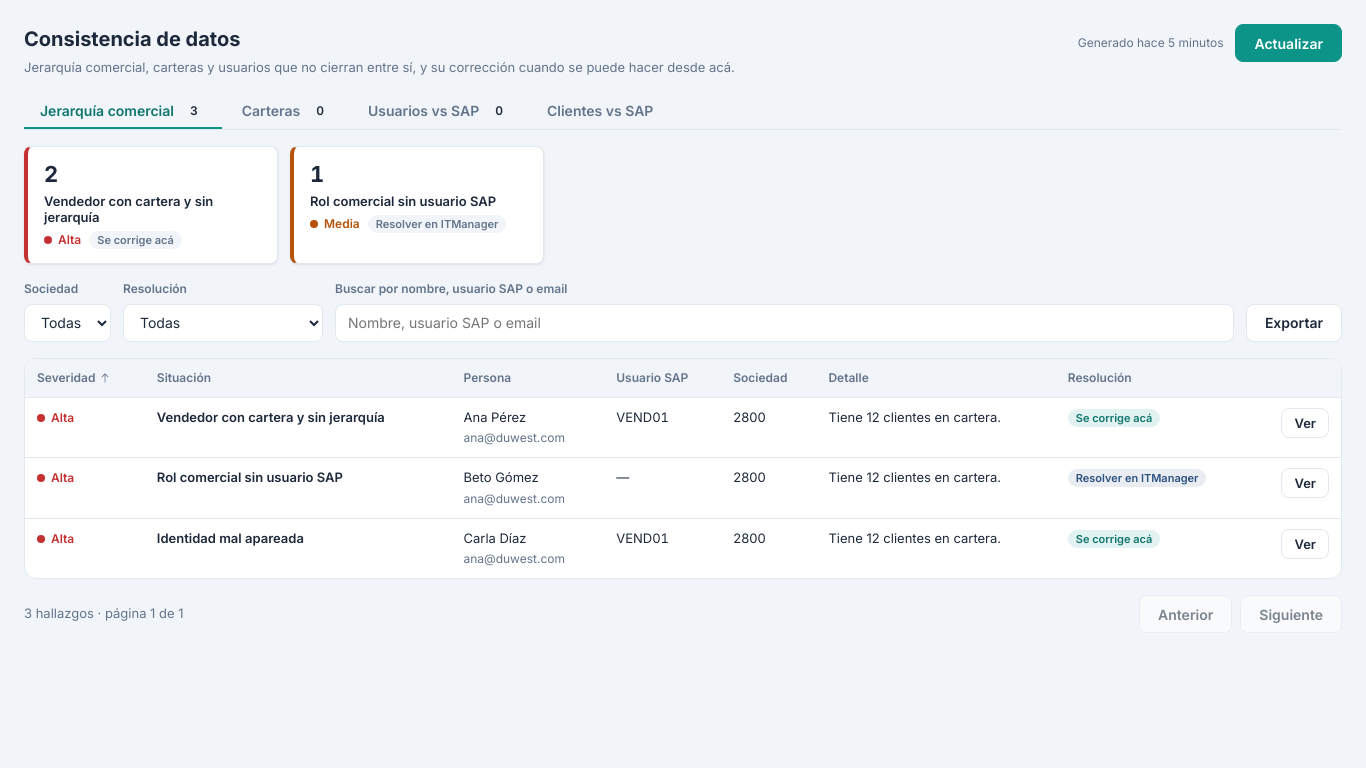
Test: ConsistencyPanel › clientes vs SAP no disponible muestra un aviso neutro
Expected: the text "Ana Pérez" is shown, [464,408,526,424]
Step 1. Click the tab "Clientes vs SAP" → (600, 111), box [531,94,669,128]
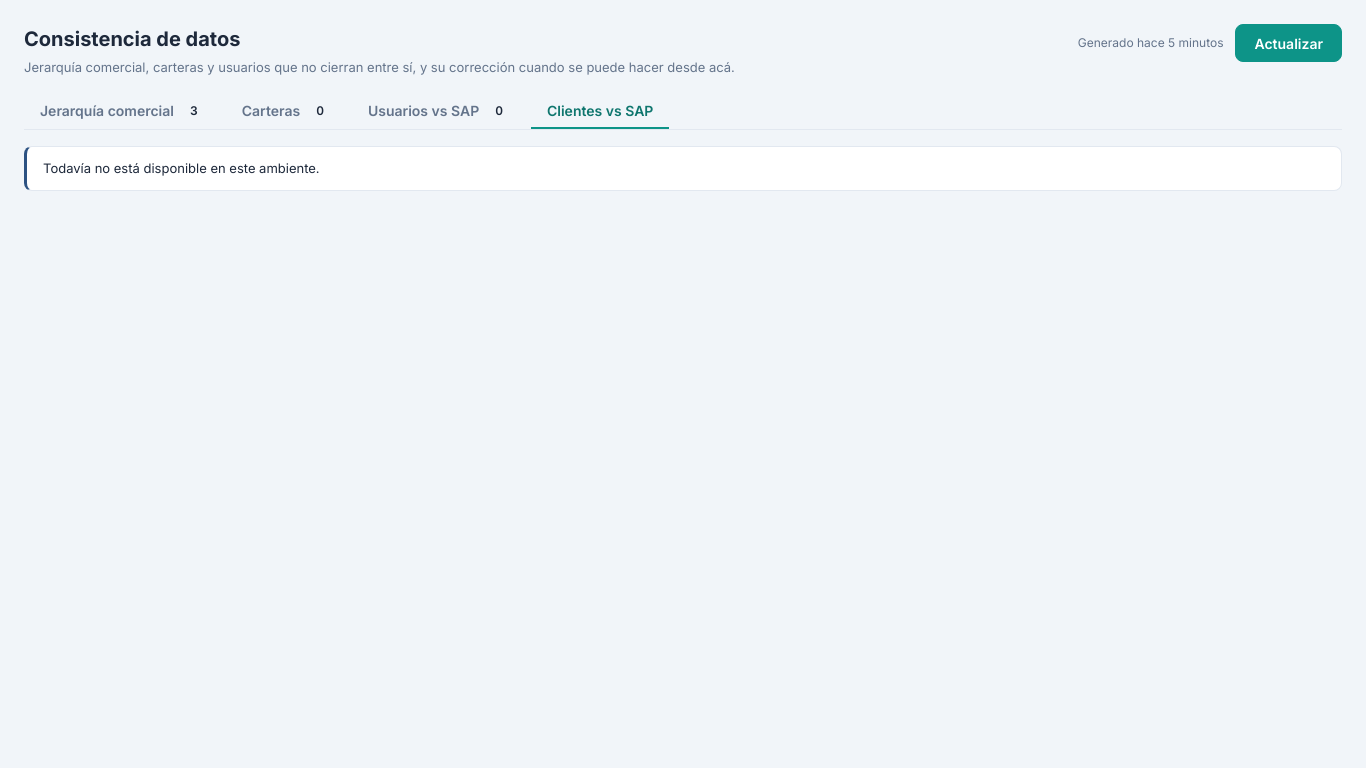
Expected: the text "Todavía no está disponible en este ambiente." is shown, [24,146,1342,191]
